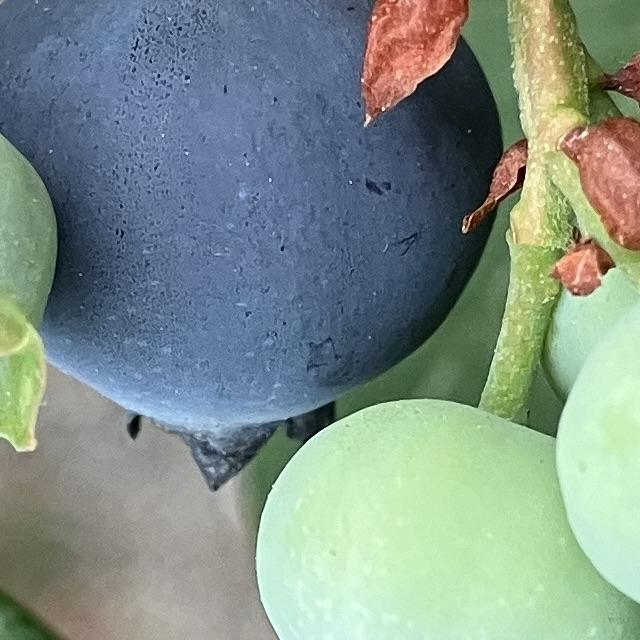Blueberries: (0, 0, 509, 471), (249, 393, 640, 640)
